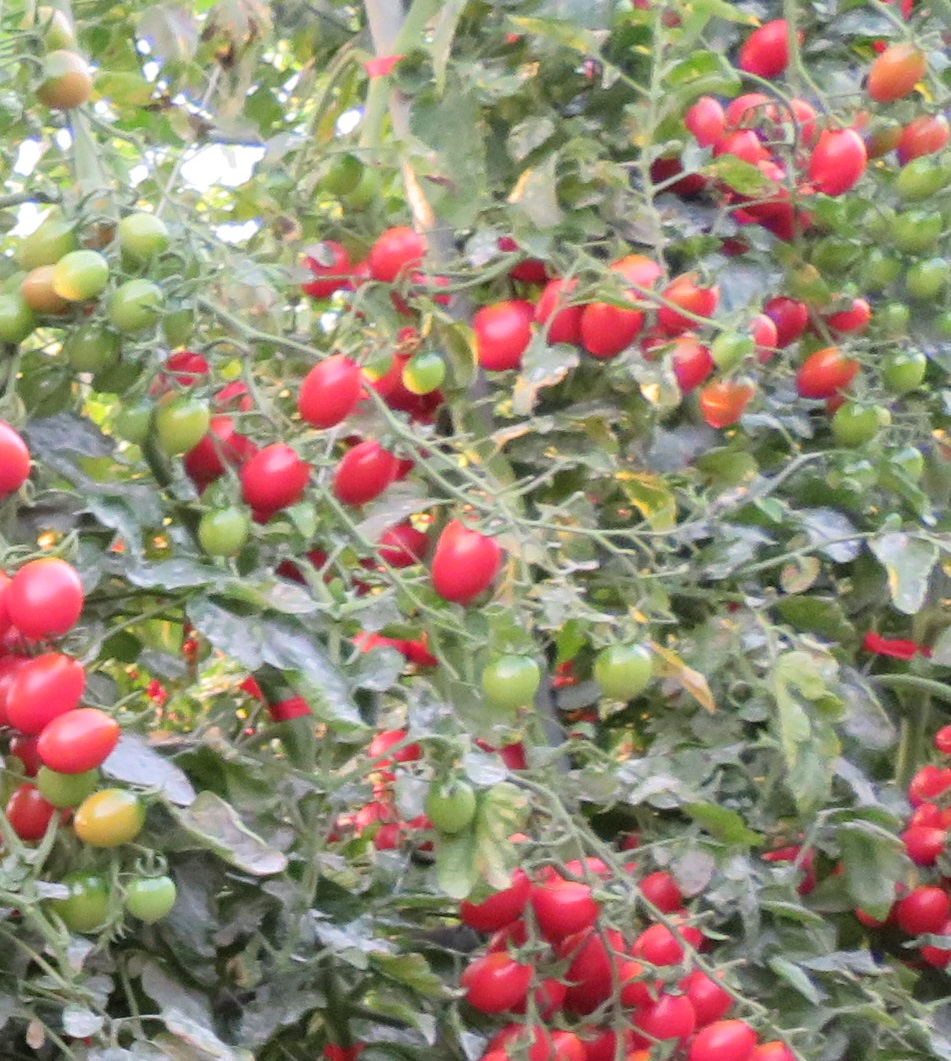green: (72, 785, 146, 850), (50, 870, 117, 932), (888, 204, 948, 264), (591, 645, 656, 700), (158, 391, 212, 455), (107, 280, 167, 337), (481, 657, 544, 709), (47, 250, 110, 302), (828, 397, 893, 447), (422, 780, 479, 835), (115, 209, 171, 263), (121, 876, 179, 926), (192, 511, 255, 557), (392, 353, 455, 399), (898, 149, 944, 209), (883, 347, 928, 398), (905, 262, 951, 303), (1, 293, 34, 347), (117, 401, 154, 447), (879, 302, 921, 336)
orange: (865, 29, 927, 116), (28, 49, 96, 111), (697, 373, 754, 431), (892, 115, 949, 164), (796, 358, 855, 403)
red: (4, 650, 85, 735), (6, 557, 84, 640), (290, 348, 367, 432), (416, 522, 493, 605), (37, 706, 121, 774), (532, 880, 609, 944), (463, 949, 534, 1016), (579, 290, 645, 362), (458, 870, 532, 930), (741, 17, 801, 90), (238, 457, 312, 516), (809, 127, 871, 195), (472, 307, 536, 370), (366, 226, 425, 291), (686, 1011, 761, 1060), (339, 444, 400, 502), (660, 275, 720, 331), (630, 924, 705, 966), (5, 782, 55, 844), (540, 272, 580, 349), (637, 995, 698, 1043), (299, 240, 352, 295), (718, 129, 765, 190), (892, 894, 951, 941), (366, 727, 419, 779), (638, 869, 686, 919), (1, 441, 38, 505), (683, 96, 727, 146), (766, 295, 810, 341), (900, 772, 951, 803), (905, 826, 949, 859), (927, 728, 951, 760)
